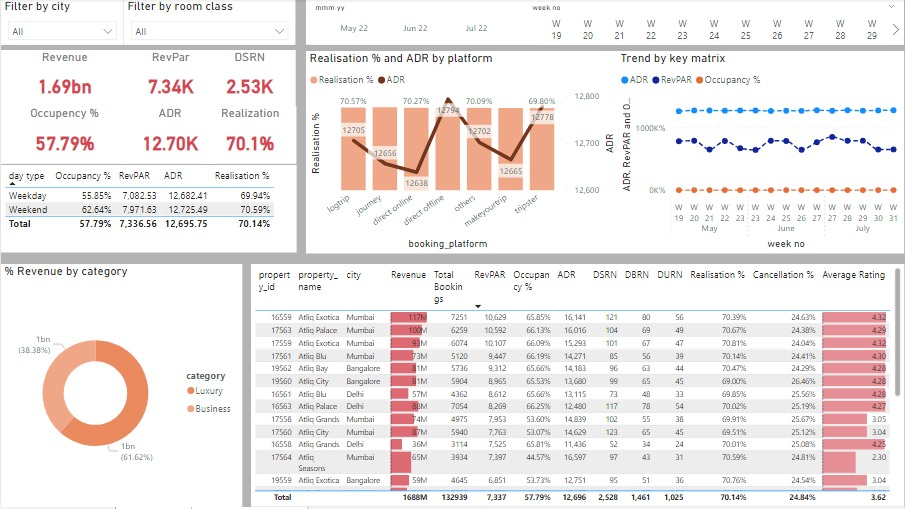

The dashboard page shown, as its layout file describes it:
{"tool":"powerbi","page":{"name":"Page 1","canvas":[1280,720],"ordinal":0},"visuals":[{"type":"group","id":"g1","title":"Group 4","box":[0,72.2,418.9,161.1],"z":1000},{"type":"slicer","title":"Filter by city","fields":{"Values":["dim_hotels.city"]},"box":[0,0,174.4,64.5],"z":2000},{"type":"slicer","title":"Filter by room class","fields":{"Values":["dim_rooms.room_class"]},"box":[175,0,243.3,65],"z":3000},{"type":"tableEx","fields":{"Values":["dim_hotels.property_id","dim_hotels.property_name","dim_hotels.city","key_measures.Revenue","key_measures.Total Bookings","key_measures.RevPAR","key_measures.Occupancy %","key_measures.ADR","key_measures.DSRN","key_measures.DBRN","key_measures.DURN","key_measures.Realisation %"]},"box":[354,376,926,344],"z":3000},{"type":"slicer","fields":{"Values":["dim_date.mmm yy"]},"box":[431.7,0,308.3,65],"z":4000},{"type":"slicer","fields":{"Values":["dim_date.week no"]},"box":[740,0,540,65],"z":5000},{"type":"card","title":"Revenue","fields":{"Values":["key_measures.Revenue"]},"box":[0,72.8,180.5,79.9],"z":5000,"group":"g2"},{"type":"card","title":"Occupency %","fields":{"Values":["key_measures.Occupancy %"]},"box":[0,152.1,180.5,81.5],"z":6000,"group":"g3"},{"type":"donutChart","title":"% Revenue by category","fields":{"Category":["dim_hotels.category"],"Y":["key_measures.Revenue"]},"box":[0,375,341.7,345],"z":6000},{"type":"card","title":"RevPar","fields":{"Values":["key_measures.RevPAR"]},"box":[156.8,72.2,166.4,80.5],"z":7000,"group":"g2"},{"type":"lineChart","title":"Trend by key matrix","fields":{"Category":["dim_date.mmm yy.Variation.Date Hierarchy.Month","dim_date.week no"],"Y":["key_measures.ADR","key_measures.RevPAR","key_measures.Occupancy %"]},"box":[873.3,73.3,406.7,286.7],"z":7000},{"type":"card","title":"DSRN","fields":{"Values":["key_measures.DSRN"]},"box":[288.4,72.2,129.7,80.5],"z":8000,"group":"g2"},{"type":"lineStackedColumnComboChart","title":"Realisation % and ADR by platform","fields":{"Category":["fact_bookings.booking_platform"],"Y":["key_measures.Realisation %"],"Y2":["key_measures.ADR"]},"box":[431.7,73.3,441.7,286.7],"z":8000},{"type":"tableEx","fields":{"Values":["dim_date.day type","key_measures.Occupancy %","key_measures.RevPAR","key_measures.ADR","key_measures.Realisation %"]},"box":[0,235.6,418.9,124.4],"z":9000},{"type":"group","id":"g2","title":"Group 2","box":[0,72.2,418.6,79.9],"z":10000,"group":"g1"},{"type":"card","title":"ADR","fields":{"Values":["key_measures.ADR"]},"box":[174.7,152.1,130.6,81.5],"z":10000,"group":"g3"},{"type":"group","id":"g3","title":"Group 3","box":[0,152.1,418.6,81.5],"z":11000,"group":"g1"},{"type":"card","title":"Realization","fields":{"Values":["key_measures.Realisation %"]},"box":[288,152.1,130.6,81.5],"z":11000,"group":"g3"}]}

Visuals, with their boxes in screenshot pixels (x1, y1, x2, y2), scaled from the page's 1280x720 canvas onto the 905x509 screenshot:
"Group 4" group: locate(0, 51, 296, 165)
"Filter by city" slicer: locate(0, 0, 123, 46)
"Filter by room class" slicer: locate(124, 0, 296, 46)
tableEx - dim_hotels.property_id x dim_hotels.property_name: locate(250, 266, 904, 508)
slicer - dim_date.mmm yy: locate(305, 0, 523, 46)
slicer - dim_date.week no: locate(523, 0, 904, 46)
"Revenue" card: locate(0, 51, 128, 108)
"Occupency %" card: locate(0, 108, 128, 165)
"% Revenue by category" donutChart: locate(0, 265, 242, 508)
"RevPar" card: locate(111, 51, 229, 108)
"Trend by key matrix" lineChart: locate(617, 52, 904, 255)
"DSRN" card: locate(204, 51, 296, 108)
"Realisation % and ADR by platform" lineStackedColumnComboChart: locate(305, 52, 618, 255)
tableEx - dim_date.day type x key_measures.Occupancy %: locate(0, 167, 296, 255)
"Group 2" group: locate(0, 51, 296, 108)
"ADR" card: locate(124, 108, 216, 165)
"Group 3" group: locate(0, 108, 296, 165)
"Realization" card: locate(204, 108, 296, 165)
